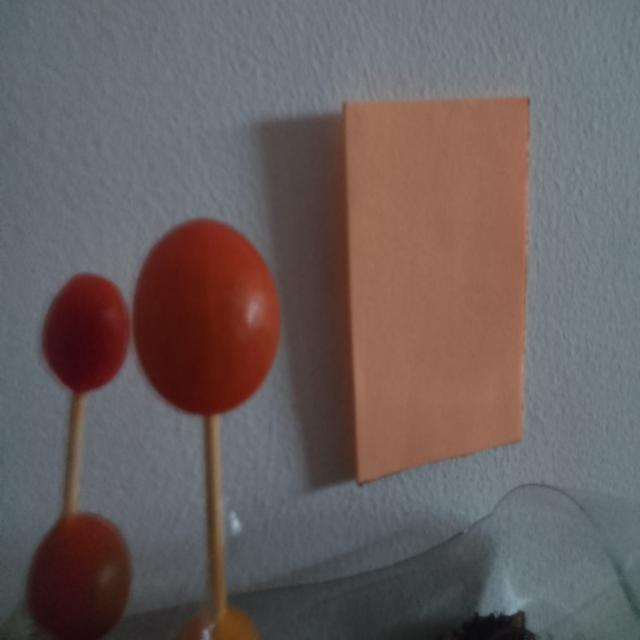card: (343, 97, 529, 482)
fruit_maturation: (133, 219, 280, 639), (27, 274, 132, 639)
